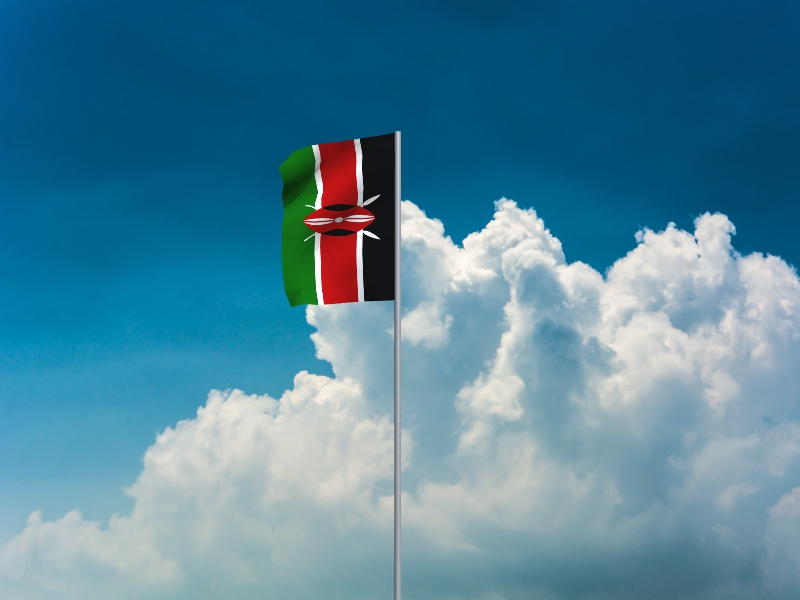ke: (279, 133, 395, 309)
